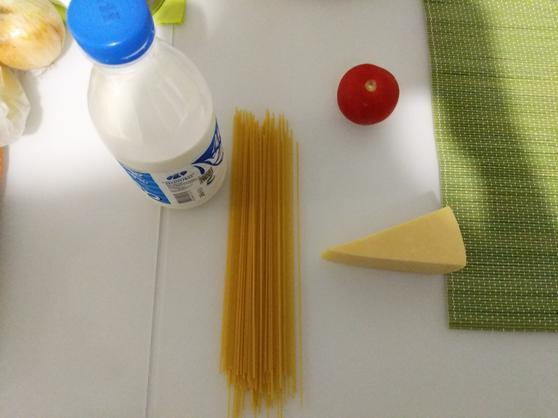cheese: (315, 205, 480, 281)
milk: (66, 1, 226, 220)
onion: (1, 1, 67, 76)
spaghetti: (215, 99, 318, 417)
tomato: (323, 63, 405, 132)
